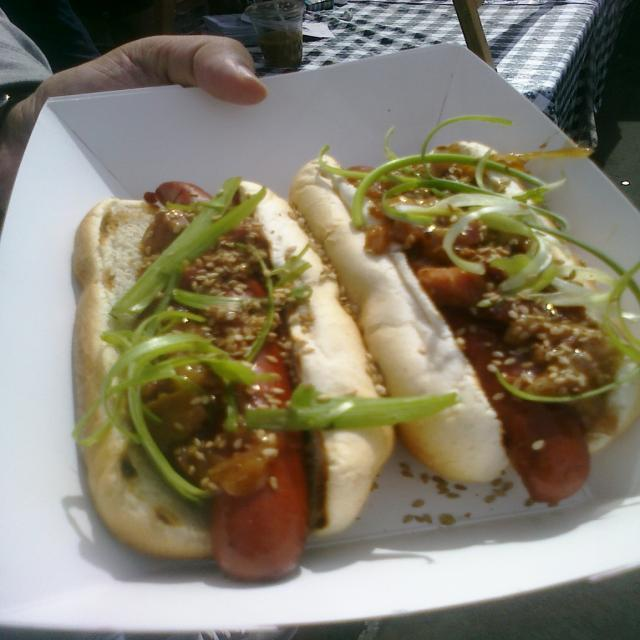Hot dog: (65, 164, 403, 589), (292, 116, 640, 506)
